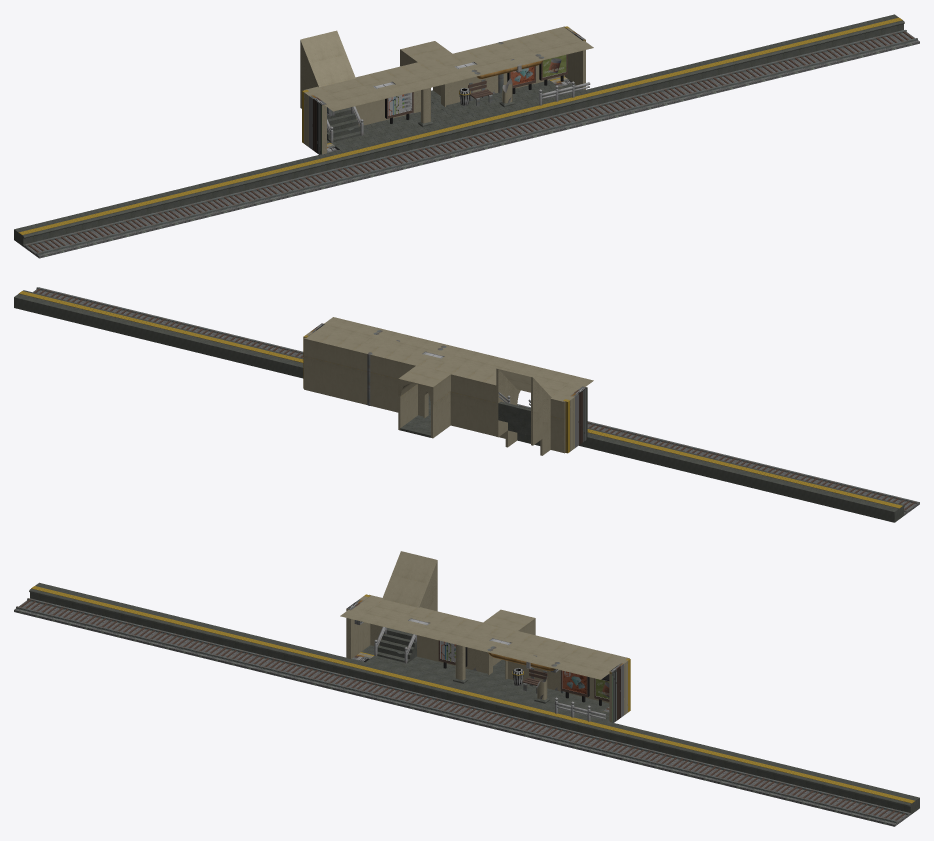
File: nuevaestacion.obj
3 renders of one model, top to bottom at view 1: azimuth 30°, elevation 25°; view 2: azimuth 150°, elevation 25°; view 3: azimuth 330°, elevation 25°, orthographic.
Parts seen in each view (by area): view 1: FloorEdgeWall30, TrainTracksRails32, FloorEdgeWall9, TrainTracksRails14, UnevenFloorTiles15, BasicFloorTilesCutPuddle2, MapBoard, MapBoardLightAD; view 2: FloorEdgeWall30, FloorEdgeWall9, TrainTracksRails32, TrainTracksRails14, UnevenFloorTiles15, pasted__FlatWallAngle5, pasted__FlatWall5, pasted__WallCraked1, pasted__FlatWall1, pasted__FlatWall4, pasted__FlatWall6, pasted__FlatWallAngle4 (+4 smaller); view 3: FloorEdgeWall9, TrainTracksRails14, FloorEdgeWall30, TrainTracksRails32, BasicFloorTilesCutPuddle2, UnevenFloorTiles15, MapBoardAD.
Part boxes in pixels (x1,y1,x2,y2): FloorEdgeWall30: (14,150,350,246); TrainTracksRails32: (23,165,365,258); FloorEdgeWall9: (569,14,904,109); TrainTracksRails14: (578,30,919,122); UnevenFloorTiles15: (302,89,339,154); BasicFloorTilesCutPuddle2: (550,26,585,89); MapBoard: (385,92,413,123); MapBoardLightAD: (539,54,567,85); FloorEdgeWall30: (579,428,904,522); FloorEdgeWall9: (14,290,303,378); TrainTracksRails32: (587,422,919,515); TrainTracksRails14: (33,287,303,357); UnevenFloorTiles15: (563,386,587,453); pasted__FlatWallAngle5: (531,377,542,445); pasted__FlatWall5: (320,359,336,397); pasted__WallCraked1: (450,391,466,429); pasted__FlatWall1: (467,395,483,433); pasted__FlatWall4: (336,363,352,401); pasted__FlatWall6: (304,355,320,393); pasted__FlatWallAngle4: (540,388,551,455); FloorEdgeWall9: (583,718,919,814); TrainTracksRails14: (568,733,910,826); FloorEdgeWall30: (29,582,364,677); TrainTracksRails32: (14,598,355,691); BasicFloorTilesCutPuddle2: (603,658,630,722); UnevenFloorTiles15: (346,594,374,662); MapBoardAD: (561,670,589,702).
Bounding box in the file's own units: 0.54 × 0.055 × 0.0669.
Materials: 10 (10 with a texture image).
